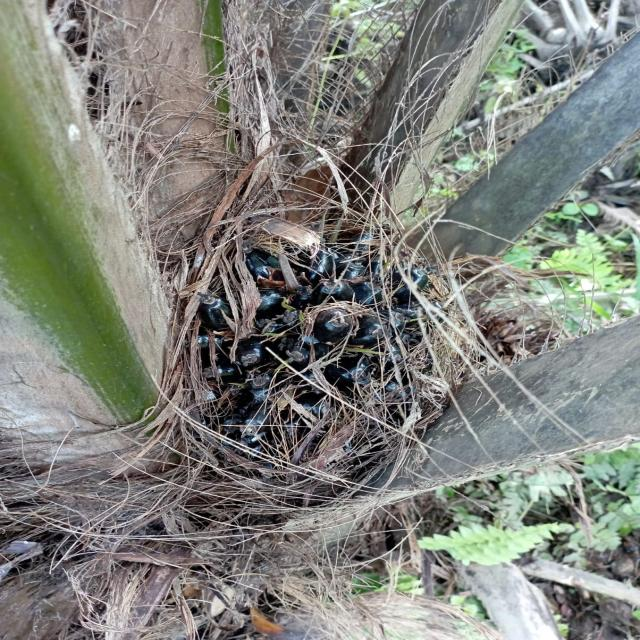fraksi 00: (120, 176, 553, 503)
